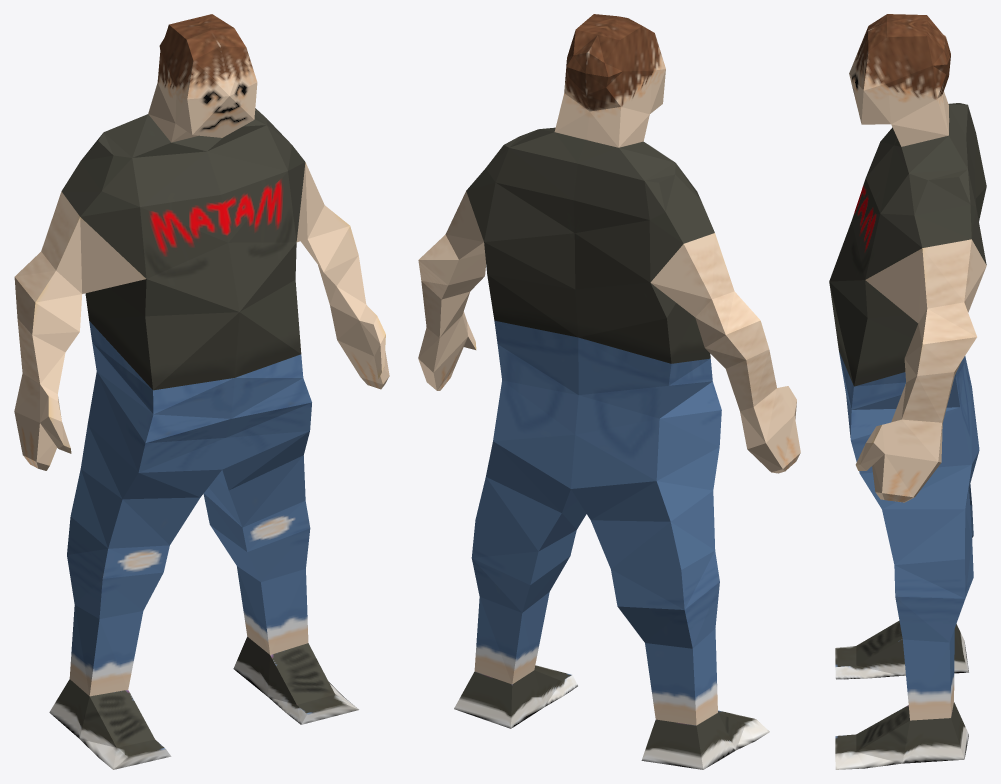
File: NPC2.dae
3 renders of one model, left to right at view 1: azimuth 30°, elevation 25°; view 2: azimuth 150°, elevation 25°; view 3: azimuth 270°, elevation 25°, orthographic. The views are drawn at different scales.
Visible parts, largest first — view 1: Cube; view 2: Cube; view 3: Cube.
Boxes of the visible parts, x1,y1,x2,y2 form: Cube: [14, 14, 389, 769]; Cube: [418, 14, 800, 769]; Cube: [829, 14, 986, 769].
Bounding box in the file's own units: 1.74 × 0.6769 × 3.27.
Materials: 1 (1 with a texture image).
